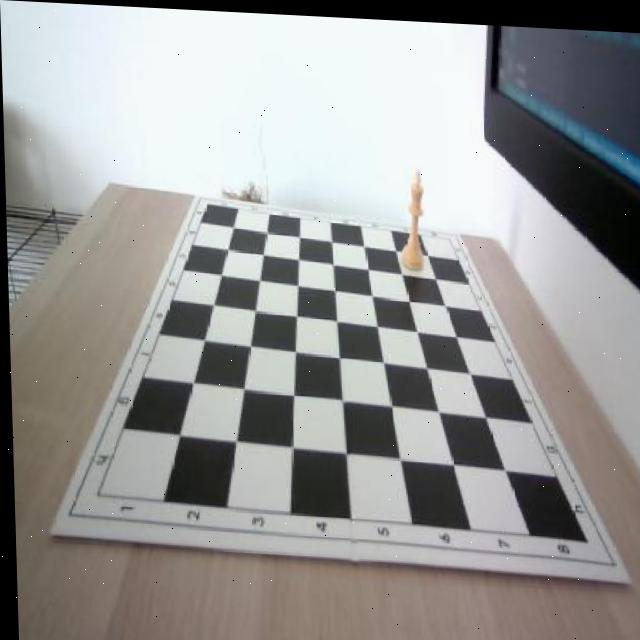white-bishop: (397, 167, 424, 267)
